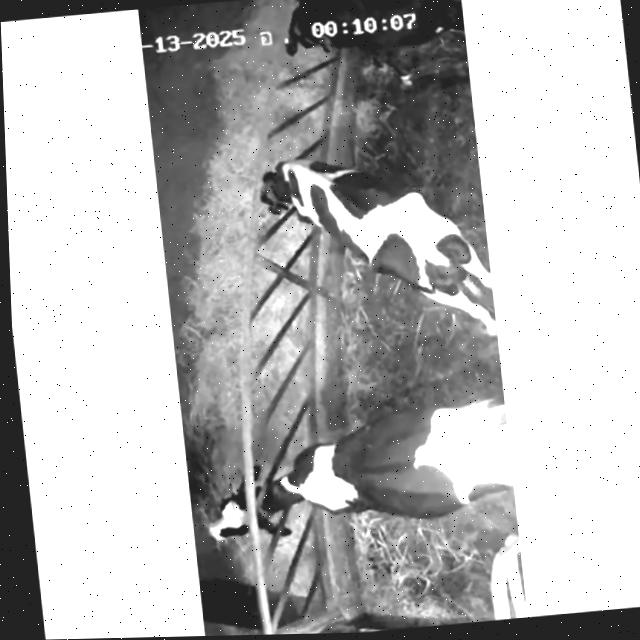eat: (182, 415, 419, 589), (194, 130, 394, 257)
